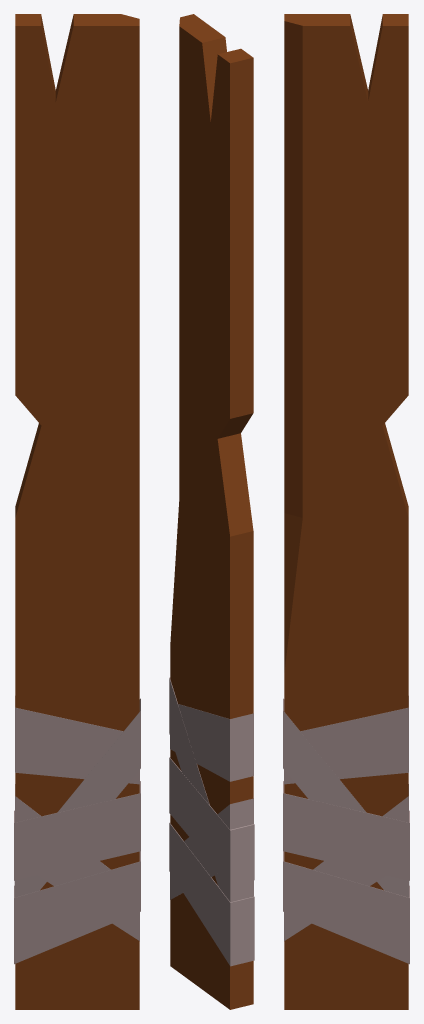
Rendered from plank.fbx.
3 renders of one model, left to right at view 1: azimuth 90°, elevation 25°; view 2: azimuth 210°, elevation 25°; view 3: azimuth 270°, elevation 25°, orthographic. The views are drawn at different scales.
Parts seen in each view (by area): view 1: Cube; view 2: Cube; view 3: Cube.
Part boxes in pixels (left/top/right/bottom): Cube: left=14, top=14, right=140, bottom=1009; Cube: left=169, top=14, right=254, bottom=1009; Cube: left=283, top=14, right=409, bottom=1009.
Size of the model in its own units: 2 by 74.16 by 8.66.
